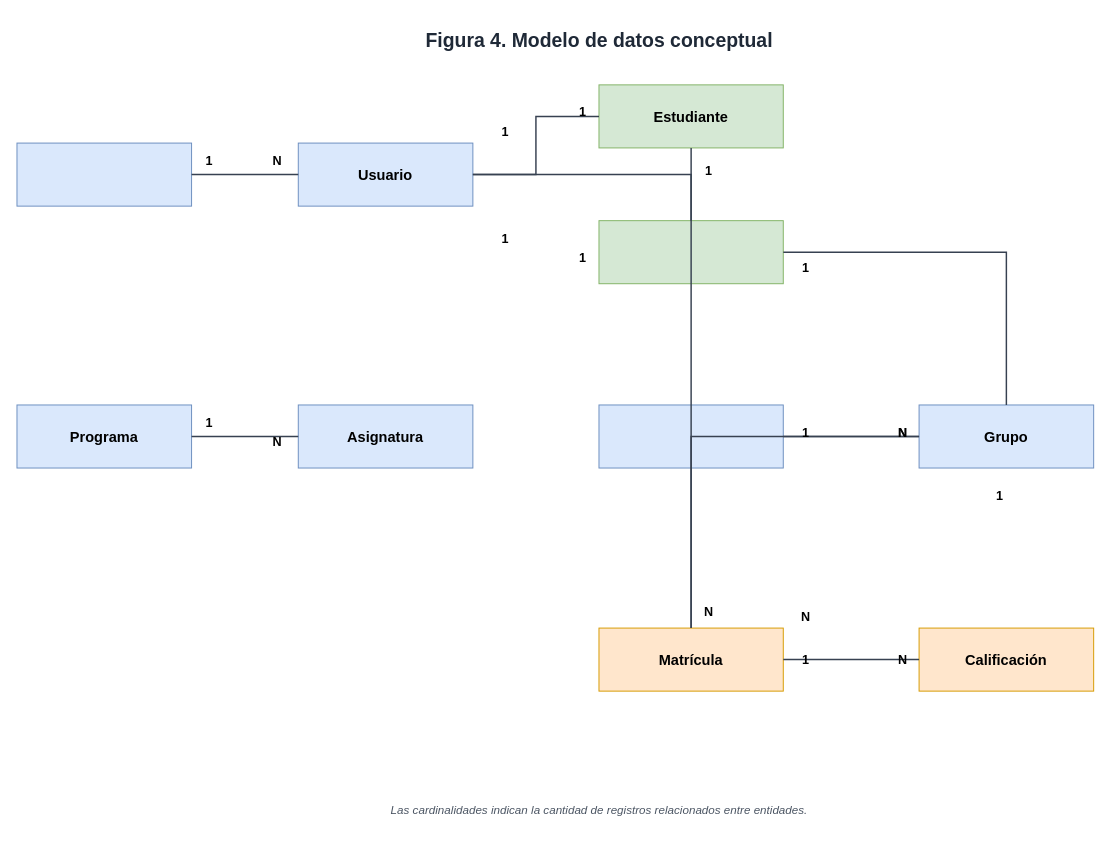
This 1111x843 diagram has some shape labels left out. Here are the shapes that lost their labels. From the top down, the box of each, then its label:
(16, 142, 192, 206): Rol
(598, 220, 783, 284): Docente
(598, 404, 783, 468): Periodo Académico
